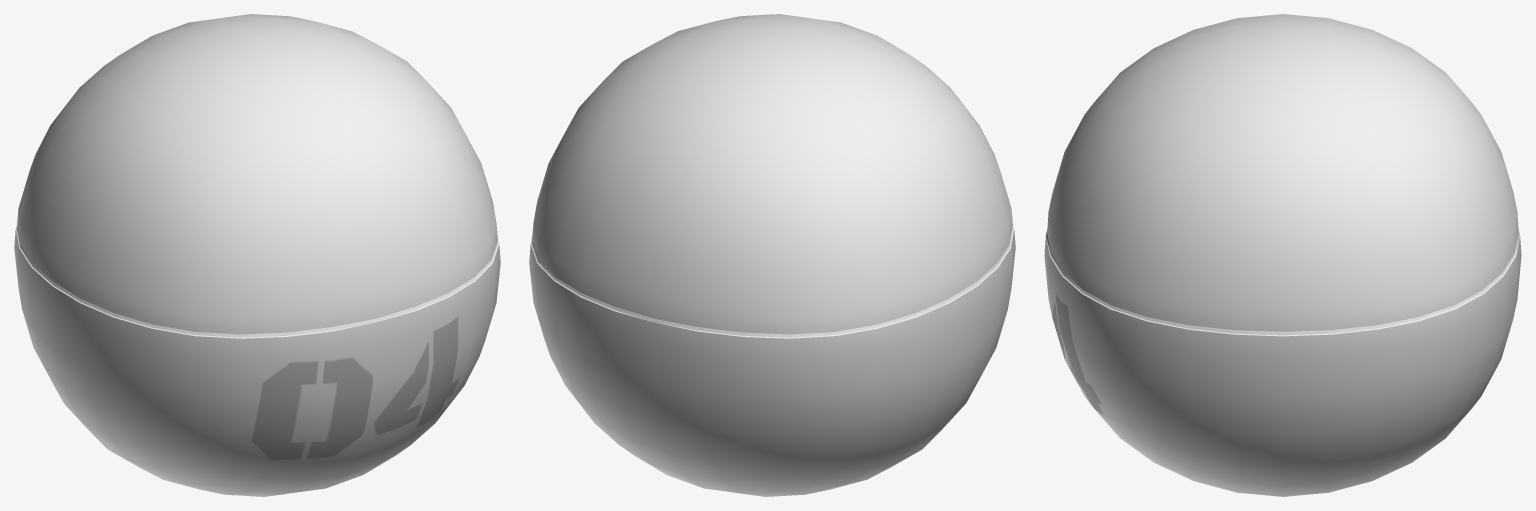
Rendered from BossBase.fbx.
3 renders of one model, left to right at view 1: azimuth 30°, elevation 25°; view 2: azimuth 150°, elevation 25°; view 3: azimuth 270°, elevation 25°, orthographic.
Visible parts, largest first — view 1: pCube14; view 2: pCube14; view 3: pCube14.
Boxes of the visible parts, box(x1,y1,x2,y2) form: pCube14: box(14, 14, 500, 496); pCube14: box(529, 14, 1015, 496); pCube14: box(1044, 14, 1521, 496).
Size of the model in its own units: 2.73 by 2.73 by 2.73.
1 material, 1 textured.
